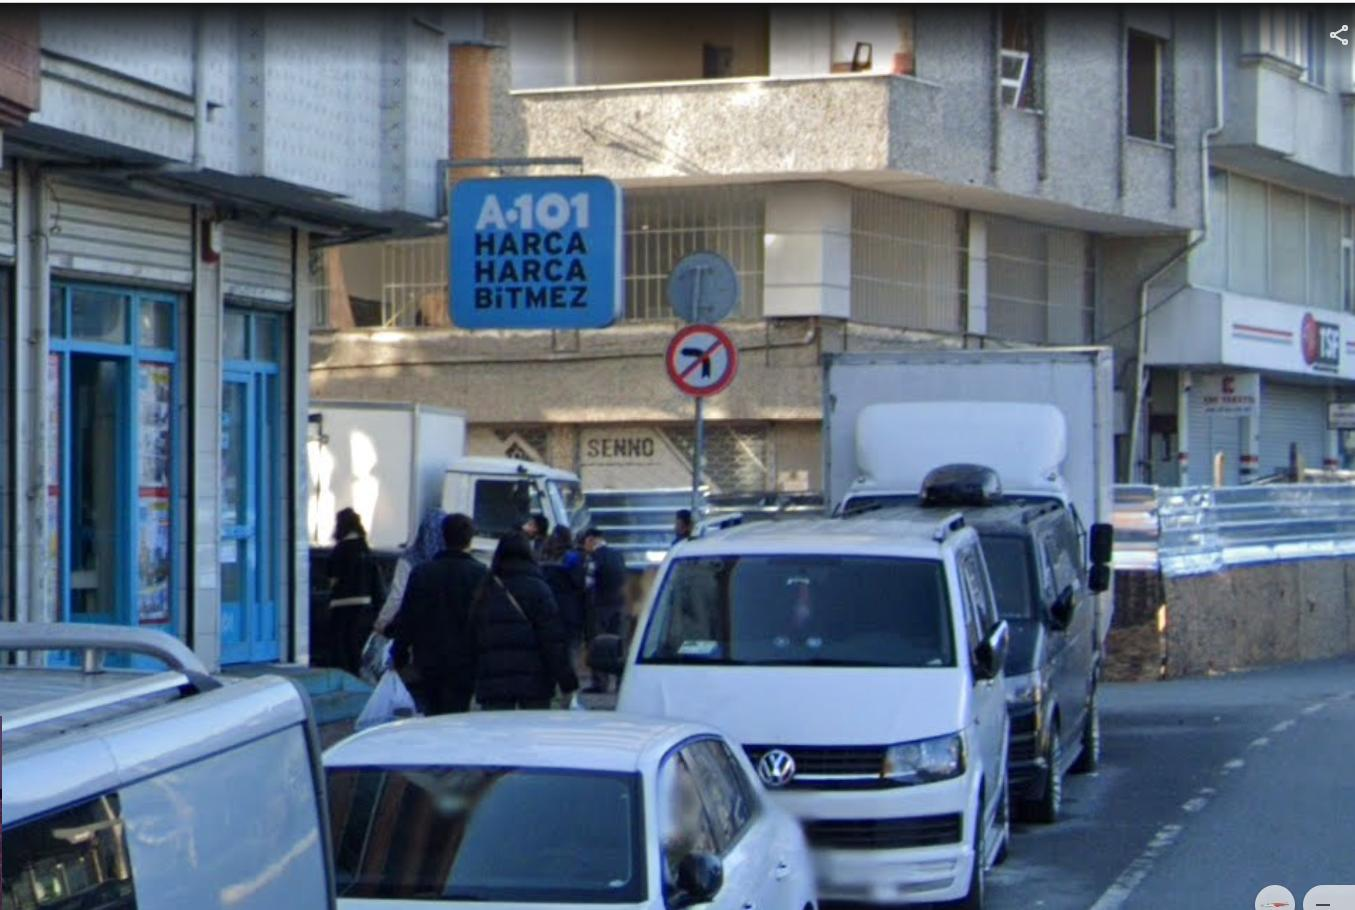leftturnsareforbidden: (664, 326, 734, 395)
